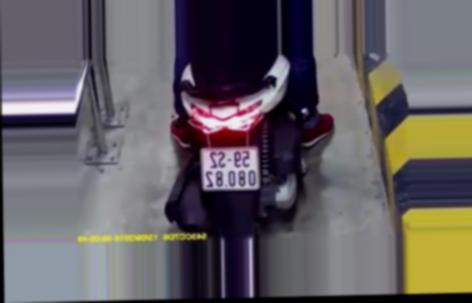License_Plate: (194, 143, 268, 196)
